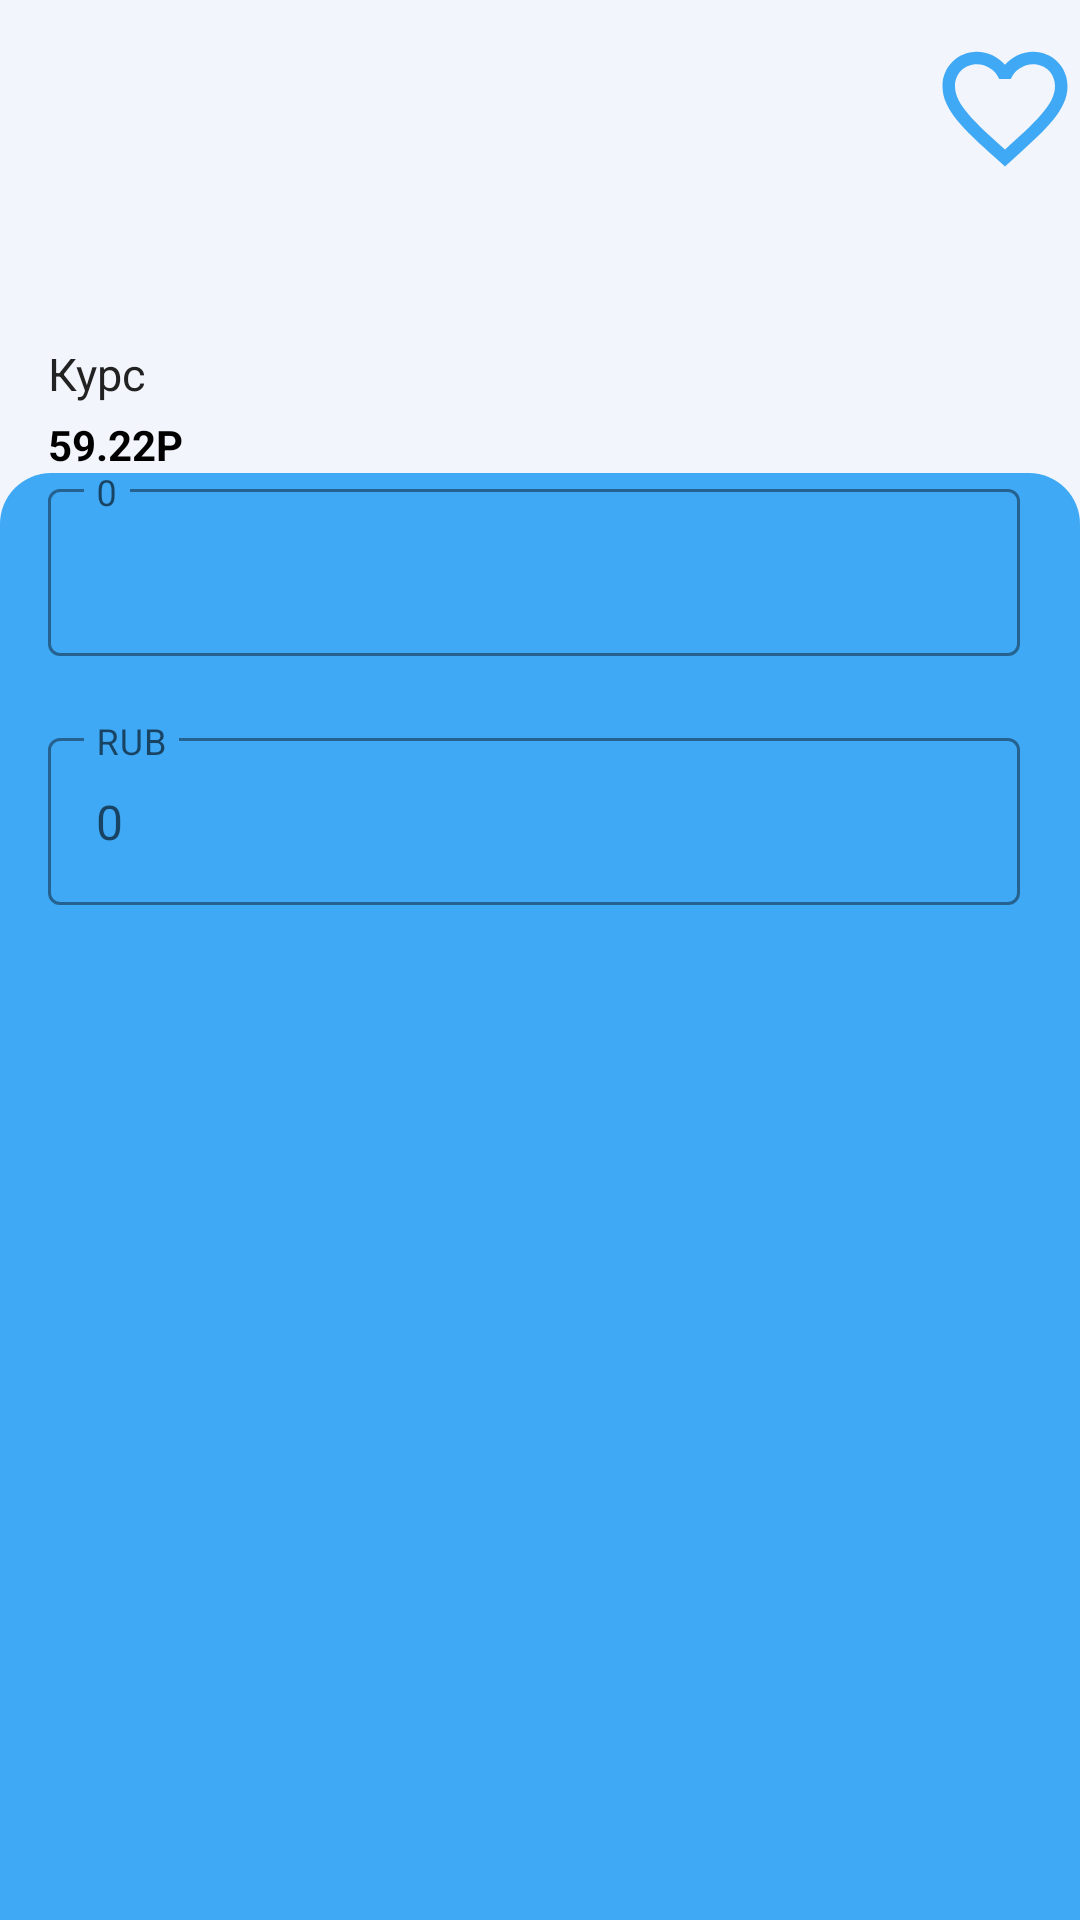

Where to tap for icons on this 1080px x 1920px app screen, as [x,y]:
favorite border: [1005,108]
